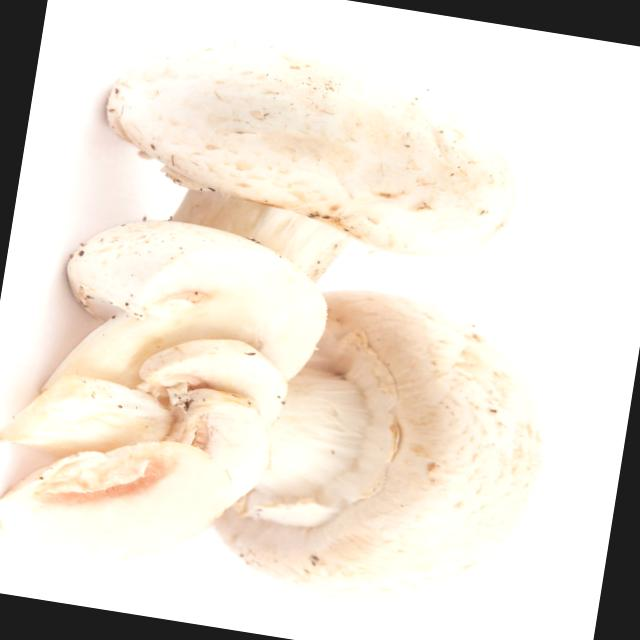Agaricus bisporus: (77, 16, 535, 353), (0, 199, 345, 602), (203, 271, 564, 630)
